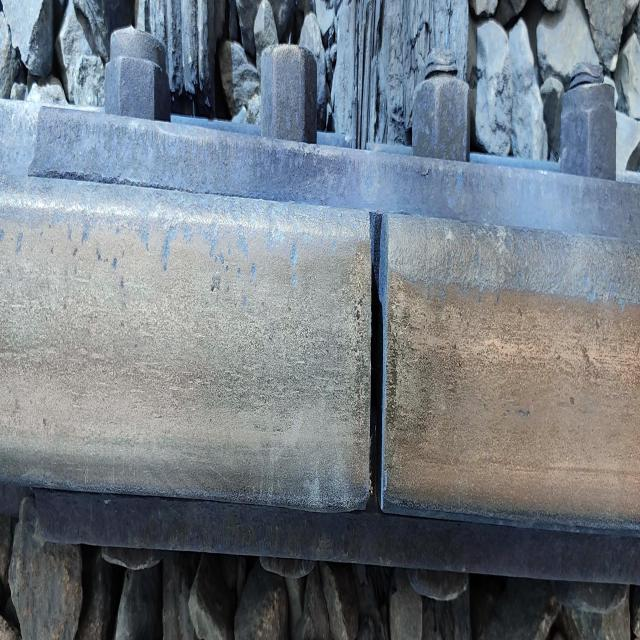Good Joint: (34, 41, 640, 602)
